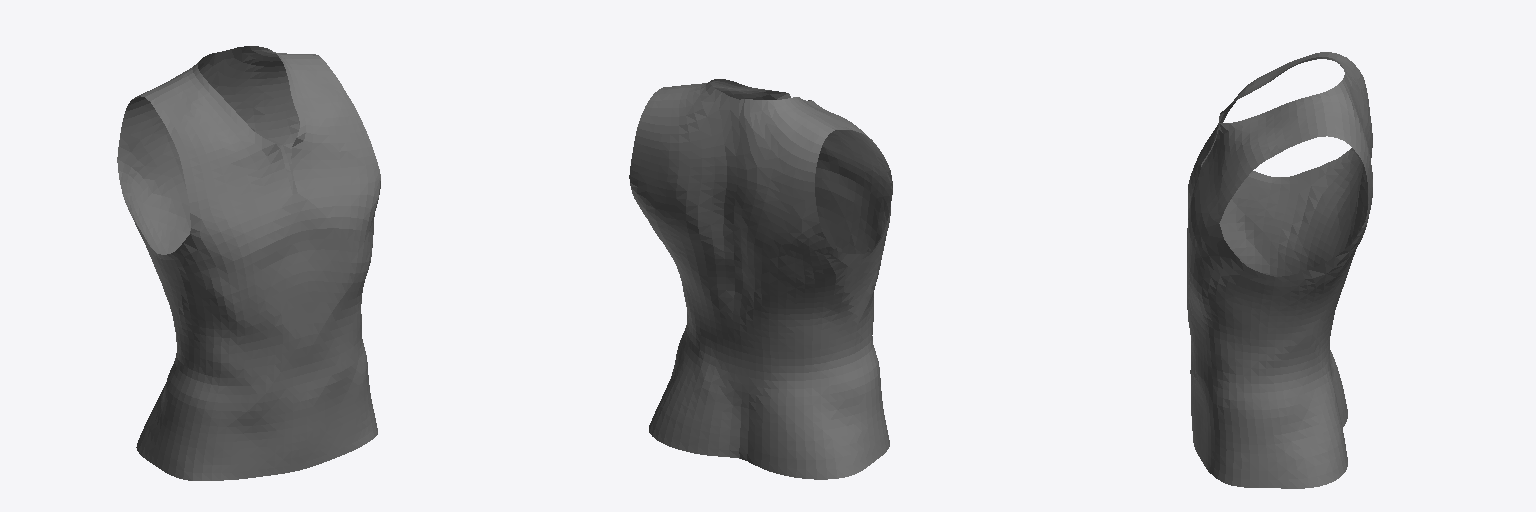
File: LowPoly_Apostador_Camisa.obj
3 renders of one model, left to right at view 1: azimuth 30°, elevation 25°; view 2: azimuth 150°, elevation 25°; view 3: azimuth 270°, elevation 25°, orthographic.
Visible parts, largest first — view 1: LowPoly_Apostador_Camisa; view 2: LowPoly_Apostador_Camisa; view 3: LowPoly_Apostador_Camisa.
Boxes of the visible parts, <box> form: LowPoly_Apostador_Camisa: <box>117,46,380,480</box>; LowPoly_Apostador_Camisa: <box>629,79,892,479</box>; LowPoly_Apostador_Camisa: <box>1187,52,1372,488</box>.
Size of the model in its own units: 26.95 by 44.8 by 20.72.